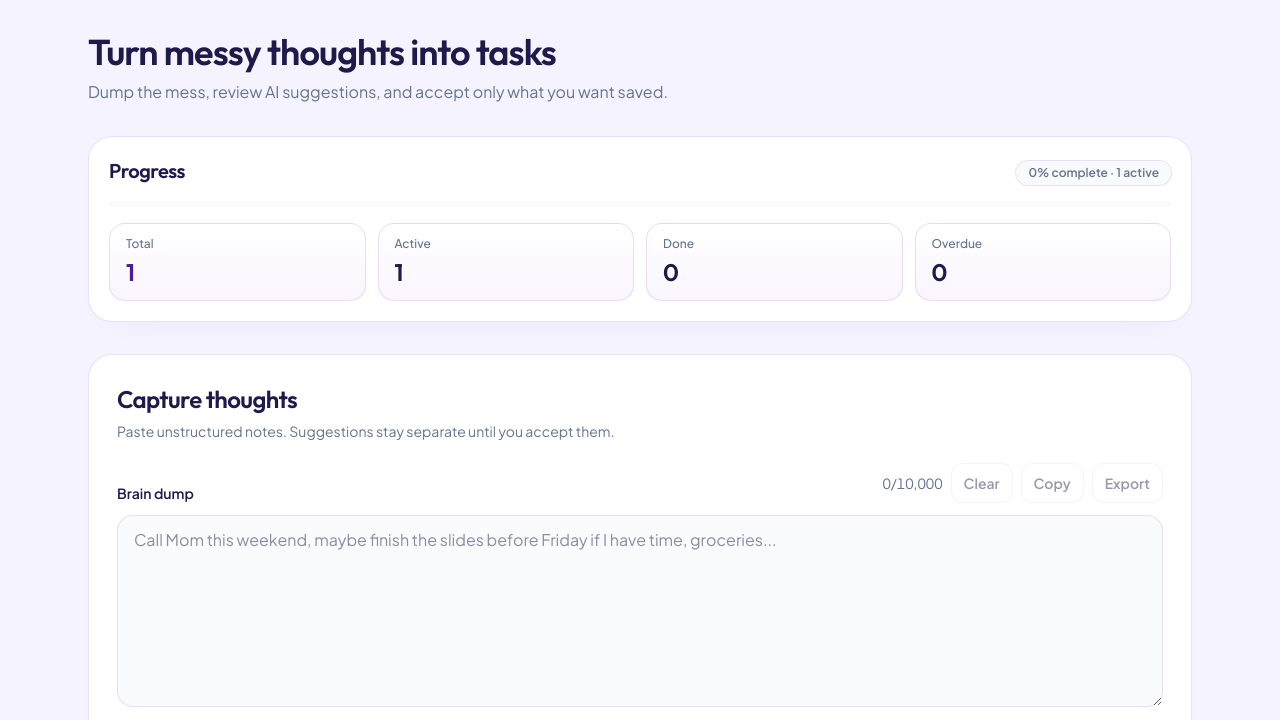
Test: BrainDumpWorkspace › restores saved tasks from storage without creating tasks from suggestions alone
The width and height of the screenshot is (1280, 720).
In the text box labelled "Brain dump": (640, 611) [117,515,1163,707], type "new dump"
(page scrolled)
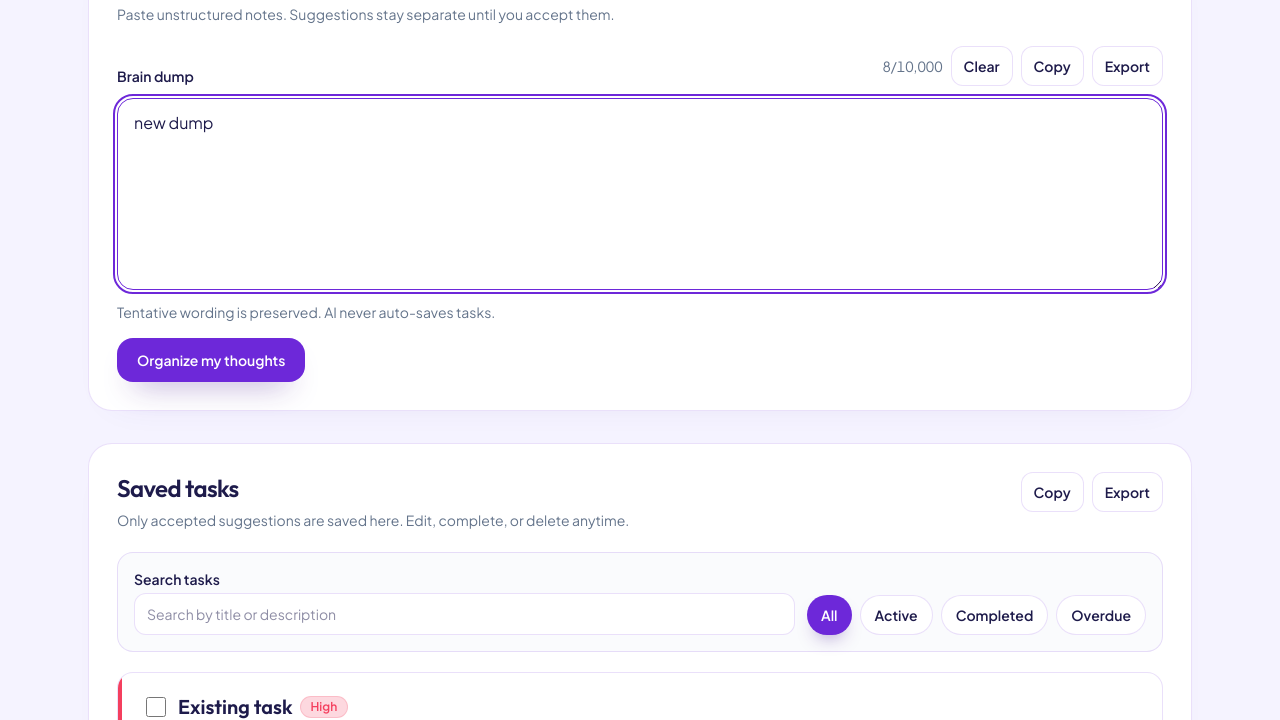
Click the button "Organize my thoughts": (211, 360) [117,338,306,382]
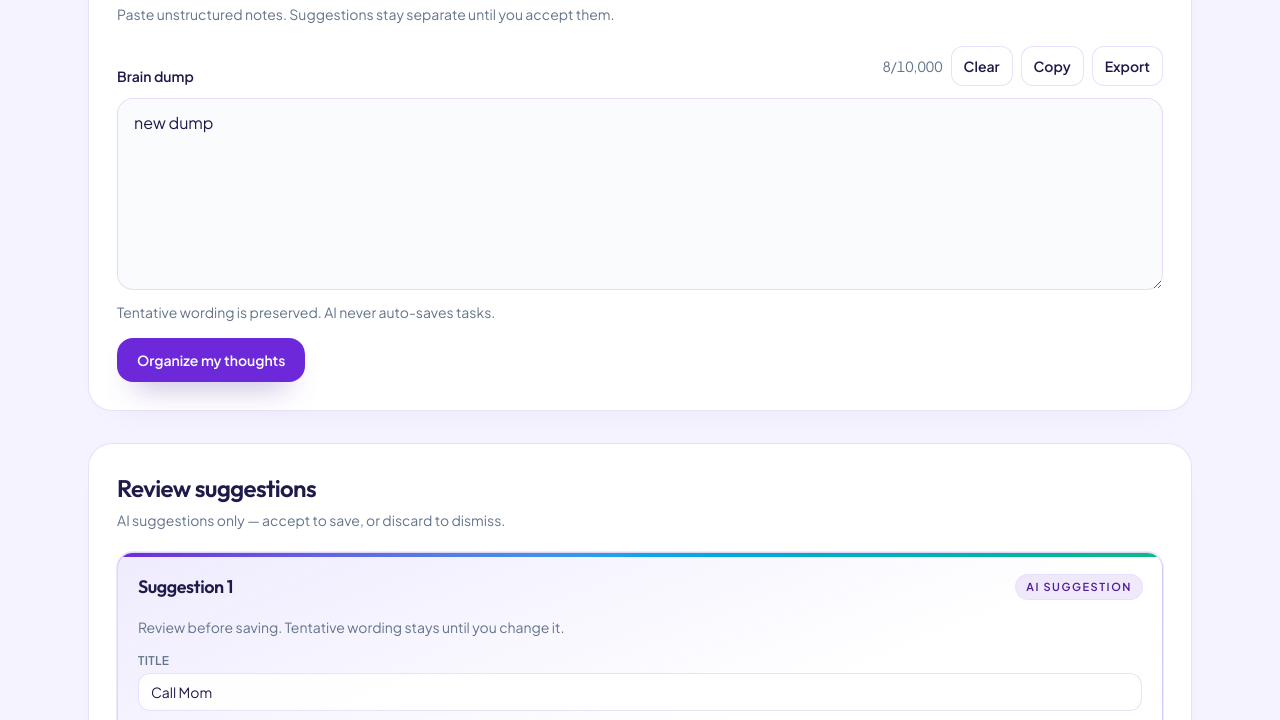
Expected: the heading "Review suggestions" is shown, [117,473,316,503]
Expected: the field showing "Call Mom" is shown, [138,673,1142,711]
